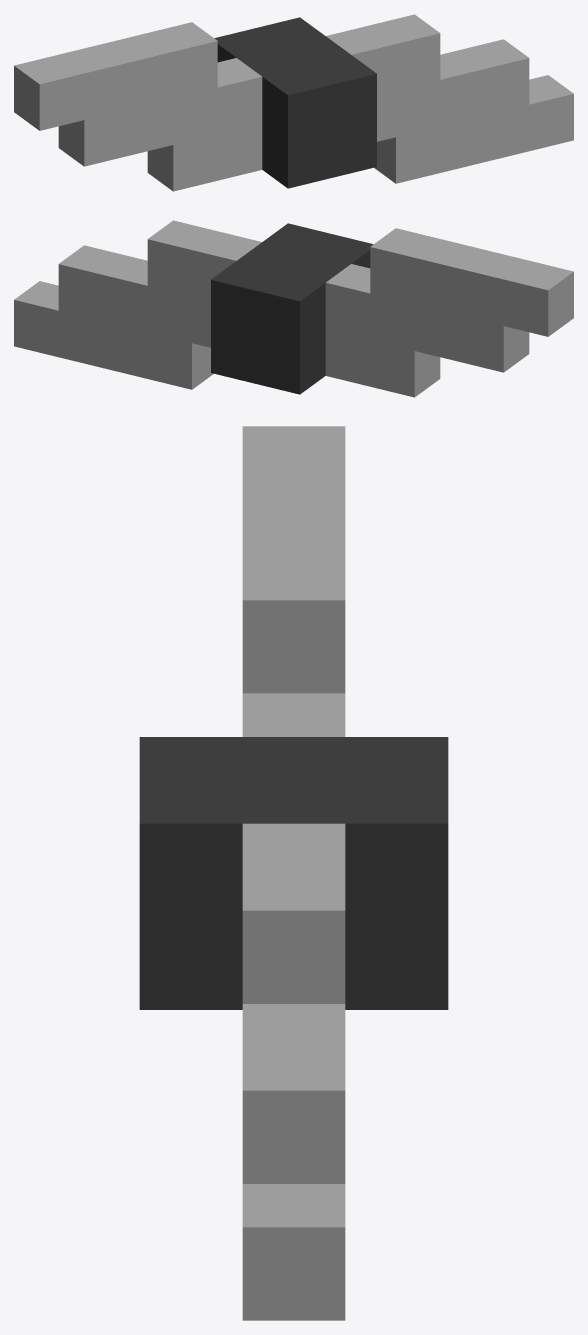
File: SeaPlane_Propeller.fbx
3 views of the same model, one above another, from view 1: azimuth 30°, elevation 25°; view 2: azimuth 150°, elevation 25°; view 3: azimuth 270°, elevation 25° (orthographic). The views are drawn at different scales.
Visible parts, largest first — view 1: SeaPlane_Propeller; view 2: SeaPlane_Propeller; view 3: SeaPlane_Propeller.
Part boxes in pixels (bbox=[...]): SeaPlane_Propeller: bbox=[14, 14, 573, 191]; SeaPlane_Propeller: bbox=[14, 220, 573, 397]; SeaPlane_Propeller: bbox=[139, 426, 448, 1320].
Bounding box in the file's own units: 120 × 40 × 30.
1 material, 1 textured.
